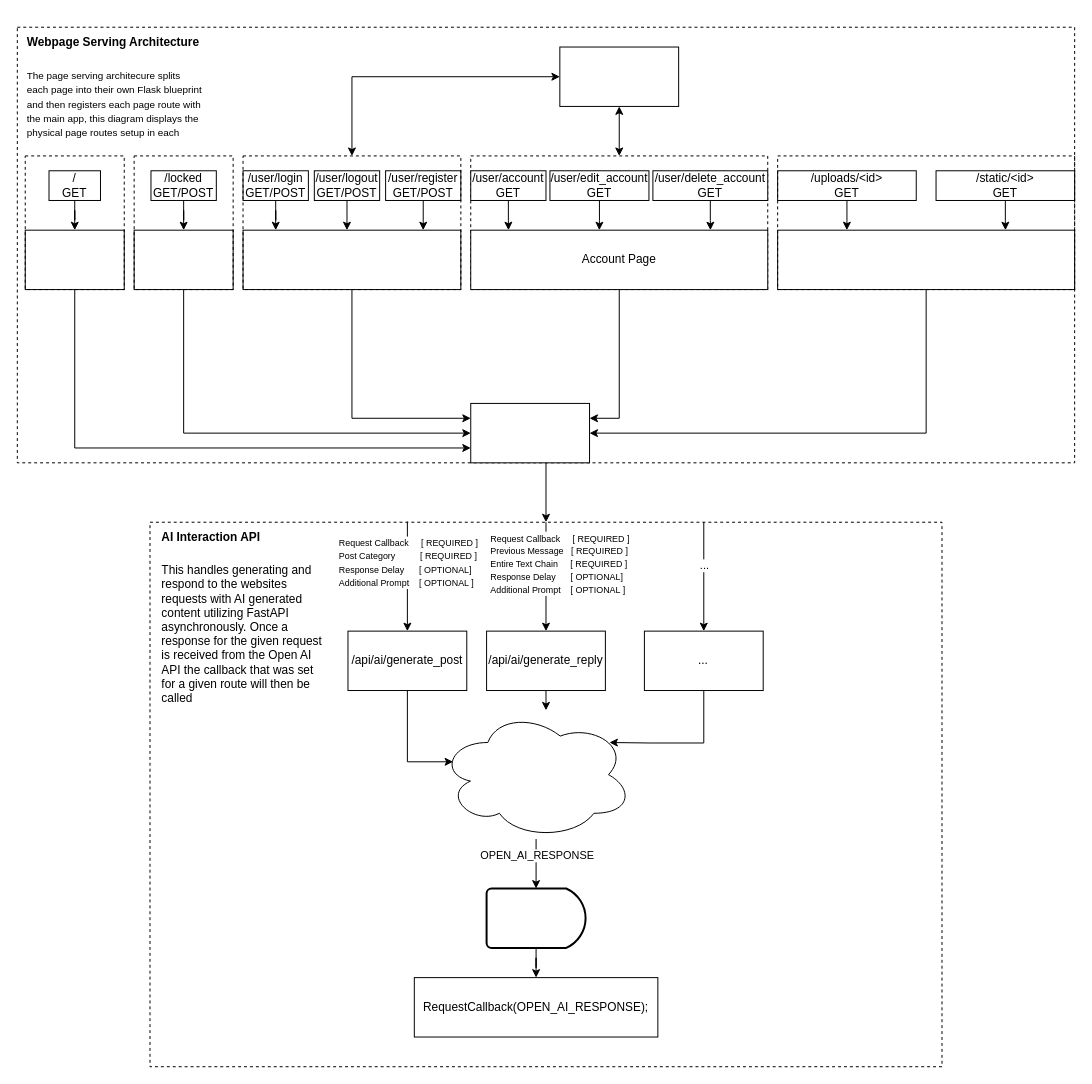
The diagram is 1092 pixels wide and 1084 high, and some of its shapes have lost their labels. The shapes that lost their labels are listed below. From the top down, each one's centre as x and y in pixels, then its label:
At point (619, 76): "Database Manager (SQlite)".
At point (74, 259): "Home Page".
At point (183, 259): "Locked Page".
At point (351, 259): "User Page".
At point (926, 259): "Helper Routes".
At point (530, 432): "Main App".
At point (536, 774): "OpenAI API".
At point (535, 917): "Response Delay".
